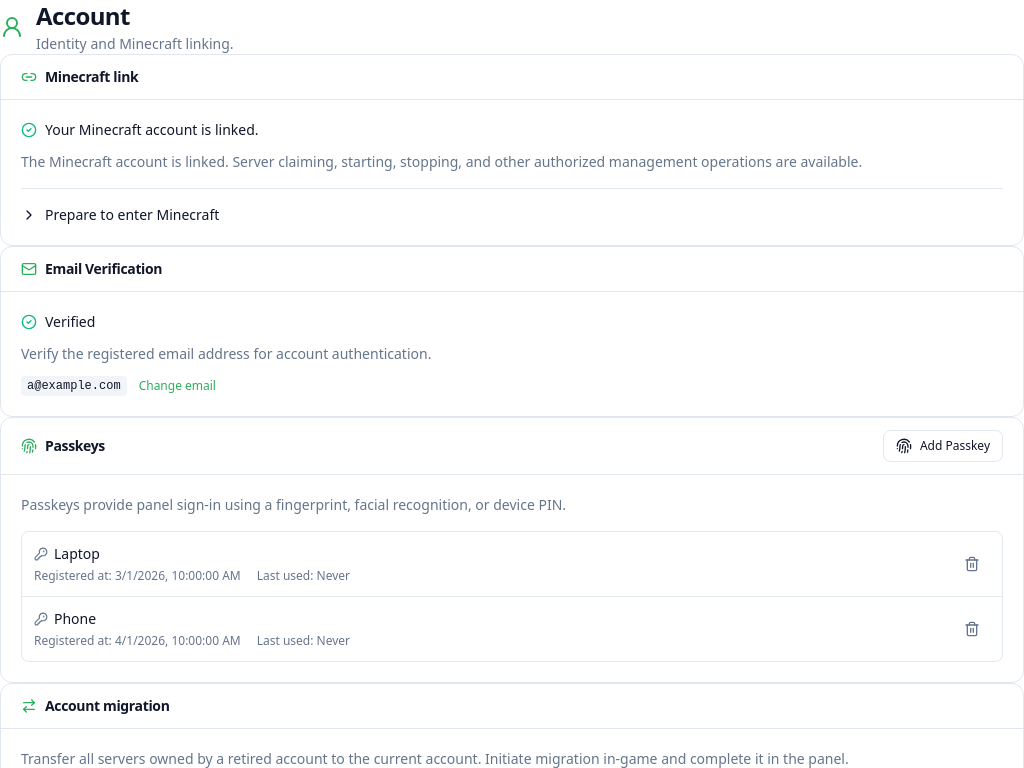
Scenario: Account passkey delete › keeps the dialog open with the server's reason when the delete is refused
What coordinates should you click on to do the following:
click the button named "Delete passkey “Laptop”"
I would click on:
 (972, 564)
Its box is [954,546,990,582].
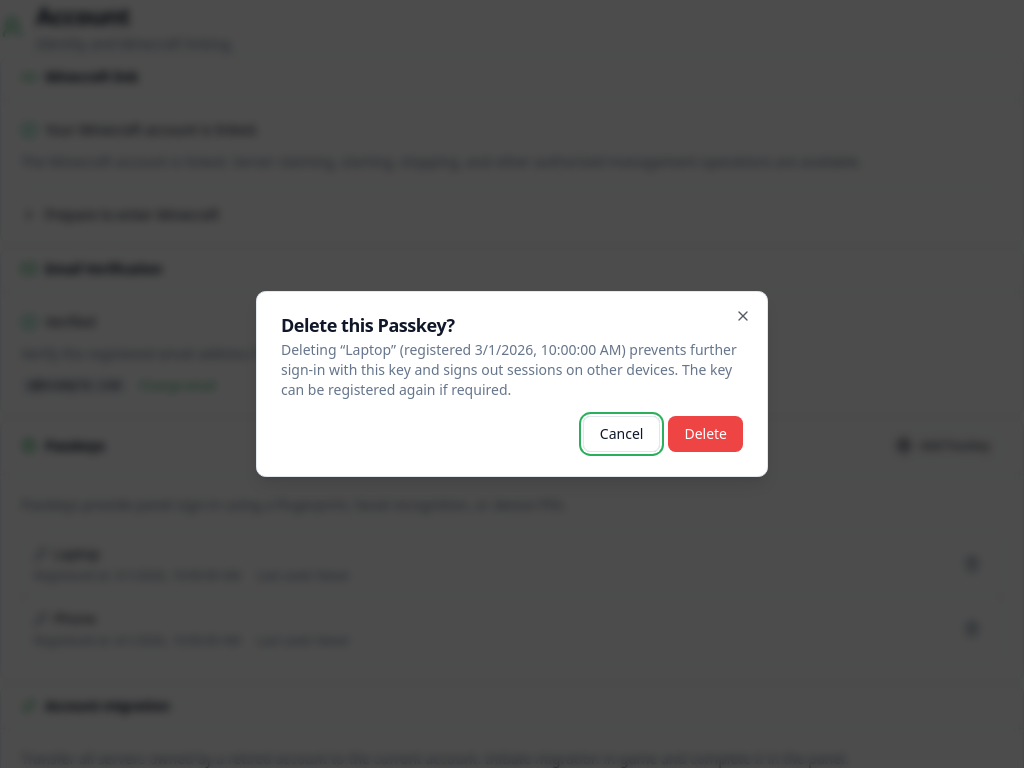
What coordinates should you click on to do the following:
click the button "Delete"
I would click on:
 (706, 434)
Its box is [668,416,743,452].
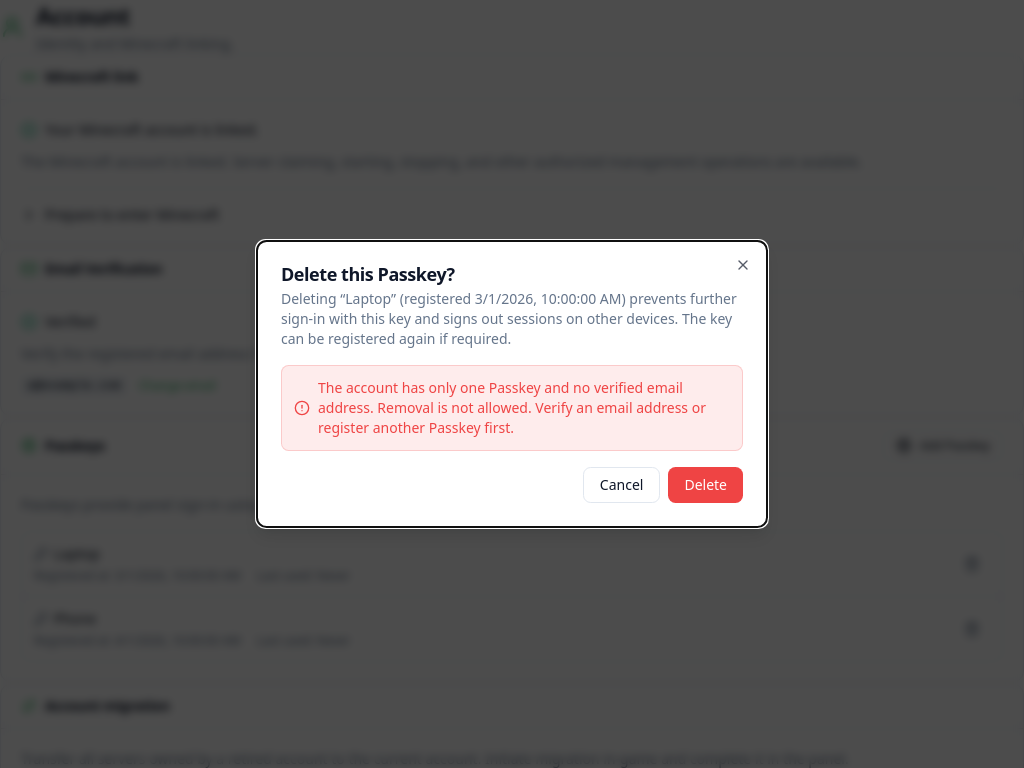
expect the message shows "The account has only one Passkey and no verified email address. Removal is not allowed. Verify an email address or register another Passkey first.": met, box [318,378,706,437]
